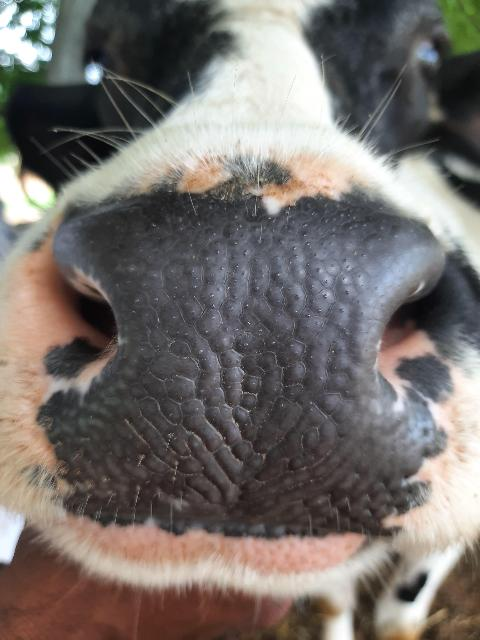Muzzle: (92, 207, 396, 525)
